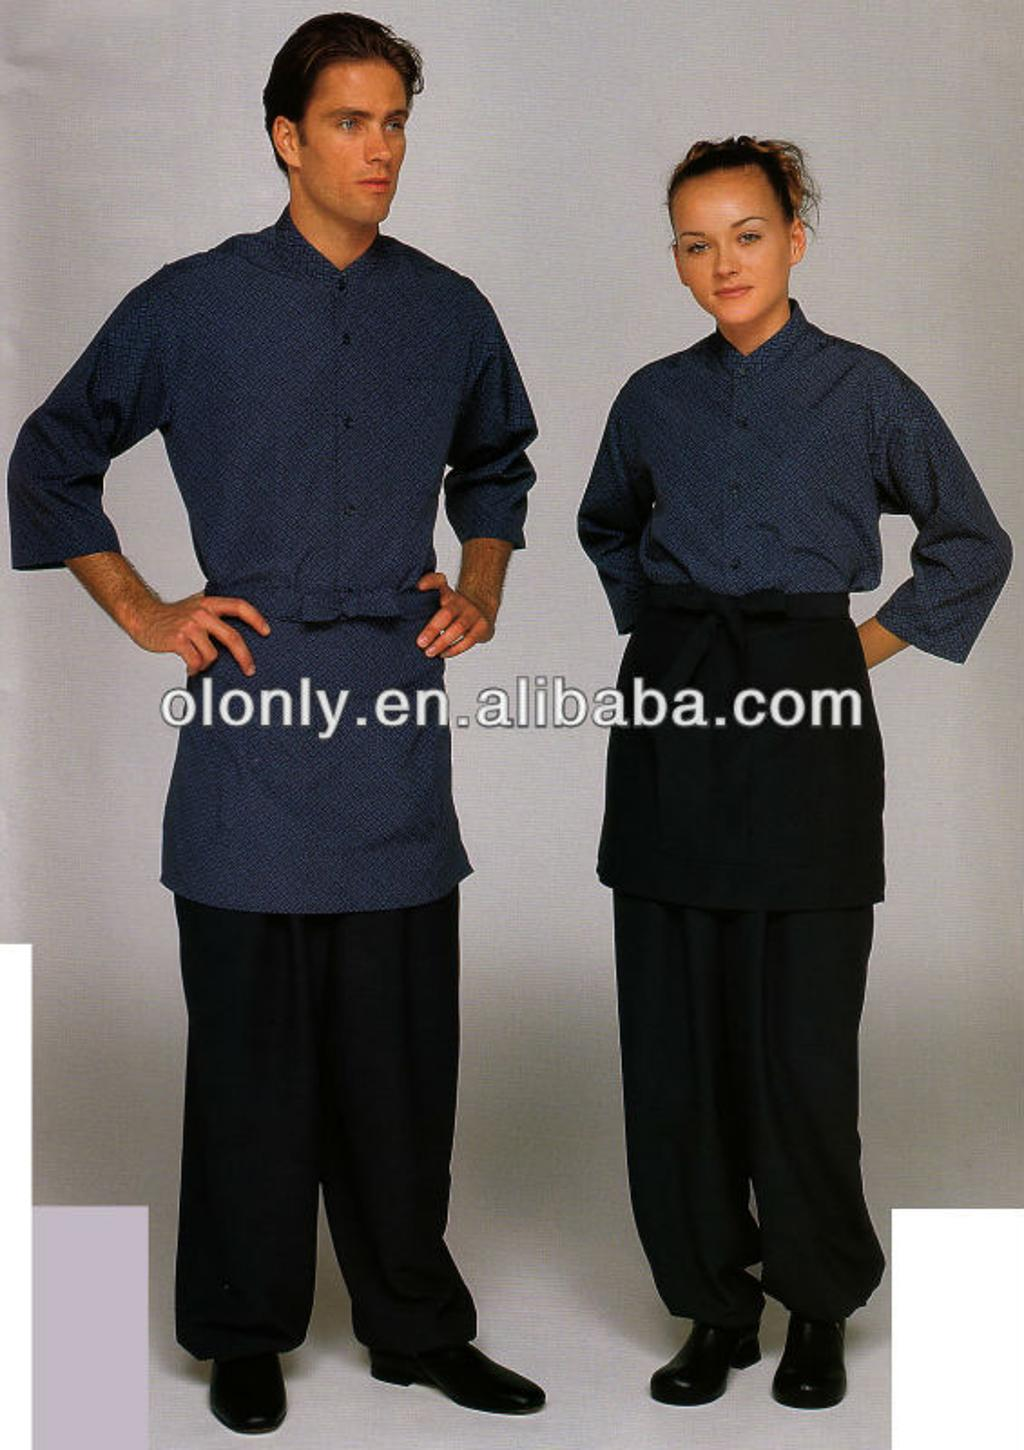face: (668, 164, 790, 328), (303, 57, 410, 224)
